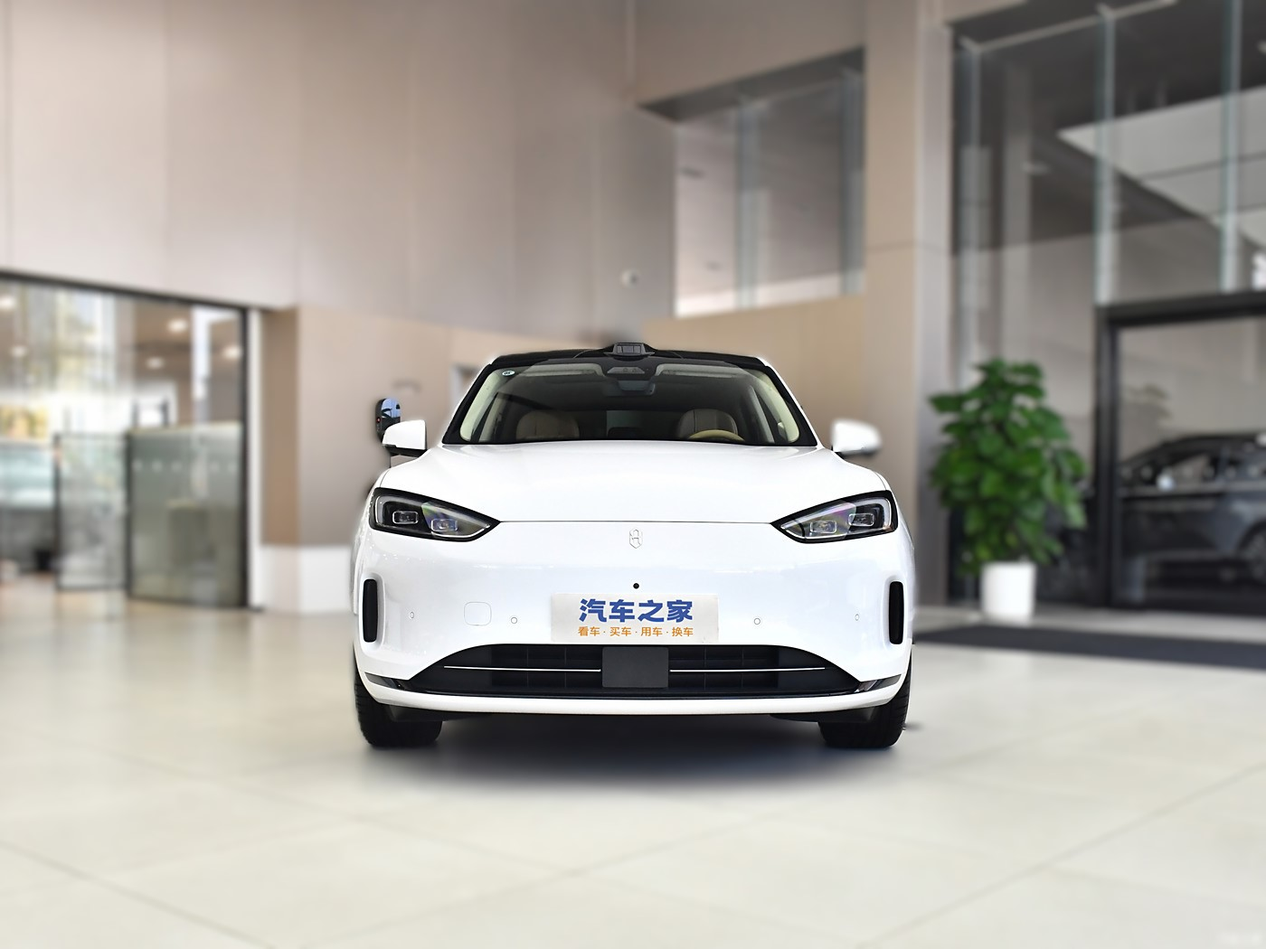AITO: (629, 527, 642, 548)
